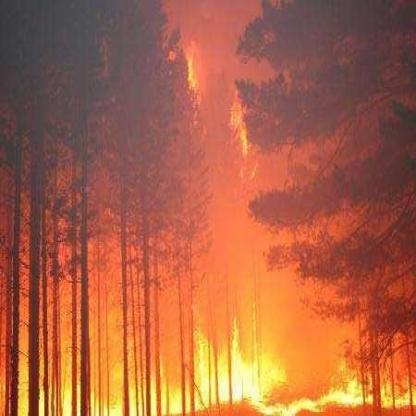fire: (18, 332, 412, 412), (172, 33, 265, 172)
